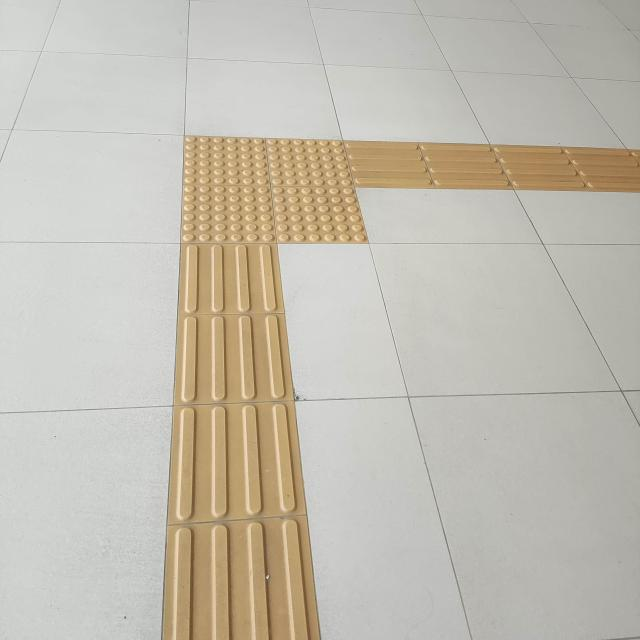kanan: (118, 94, 527, 294)
